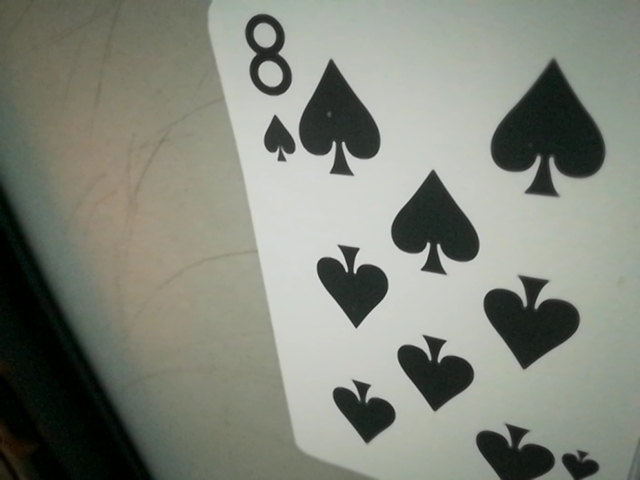ht 8: (231, 7, 308, 174)
